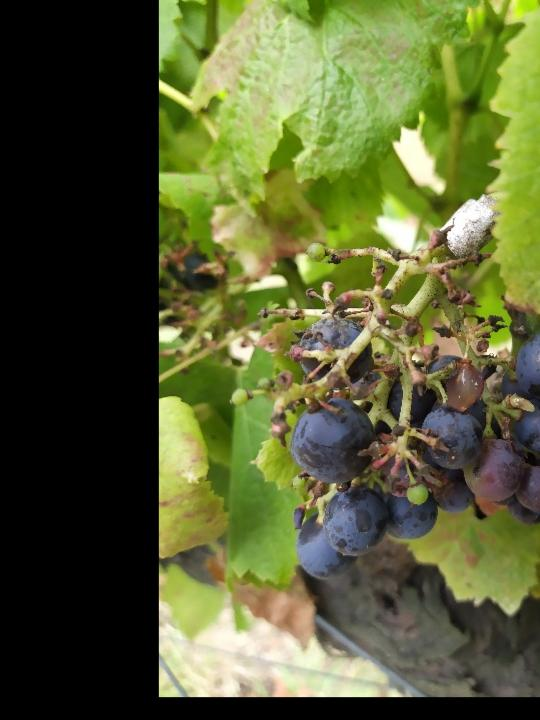grape: (229, 241, 540, 580)
